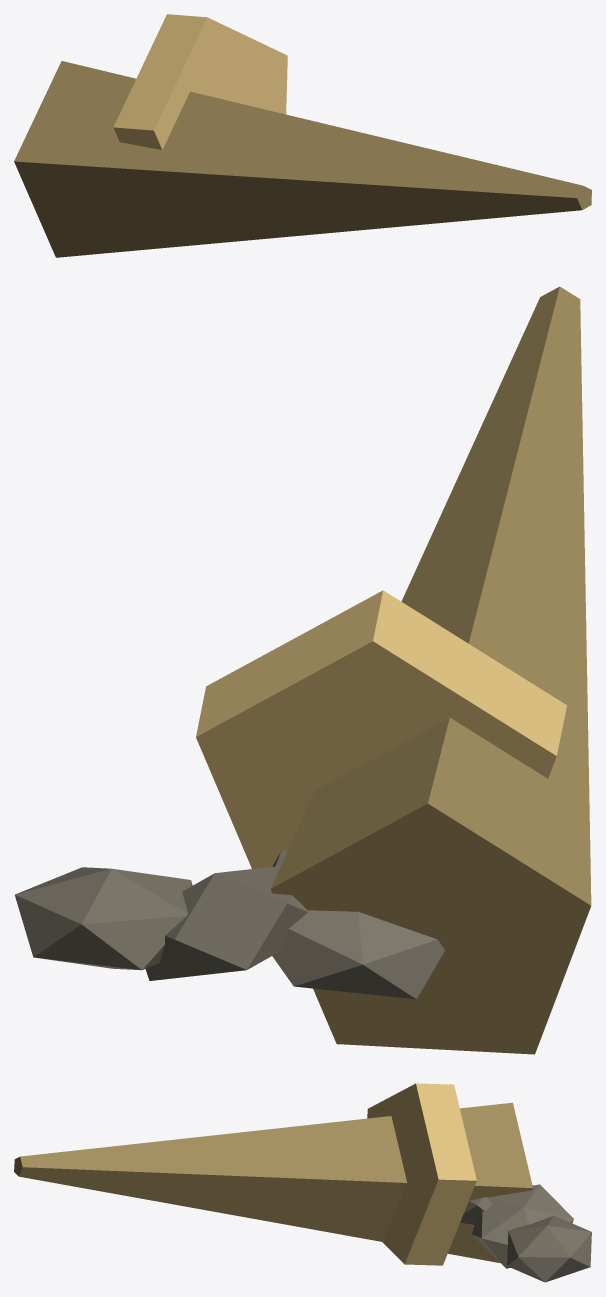
File: crown_shard.glb
3 renders of one model, top to bottom at view 1: azimuth 30°, elevation 25°; view 2: azimuth 150°, elevation 25°; view 3: azimuth 270°, elevation 25°, orthographic. The views are drawn at different scales.
Visible parts, largest first — view 1: crown_shard; view 2: crown_shard; view 3: crown_shard.
Part boxes in pixels (x1,y1,x2,y2): crown_shard: (14,14,591,257); crown_shard: (15,286,591,1054); crown_shard: (14,1083,591,1282).
Bounding box in the file's own units: 0.5421 × 0.395 × 1.09.
